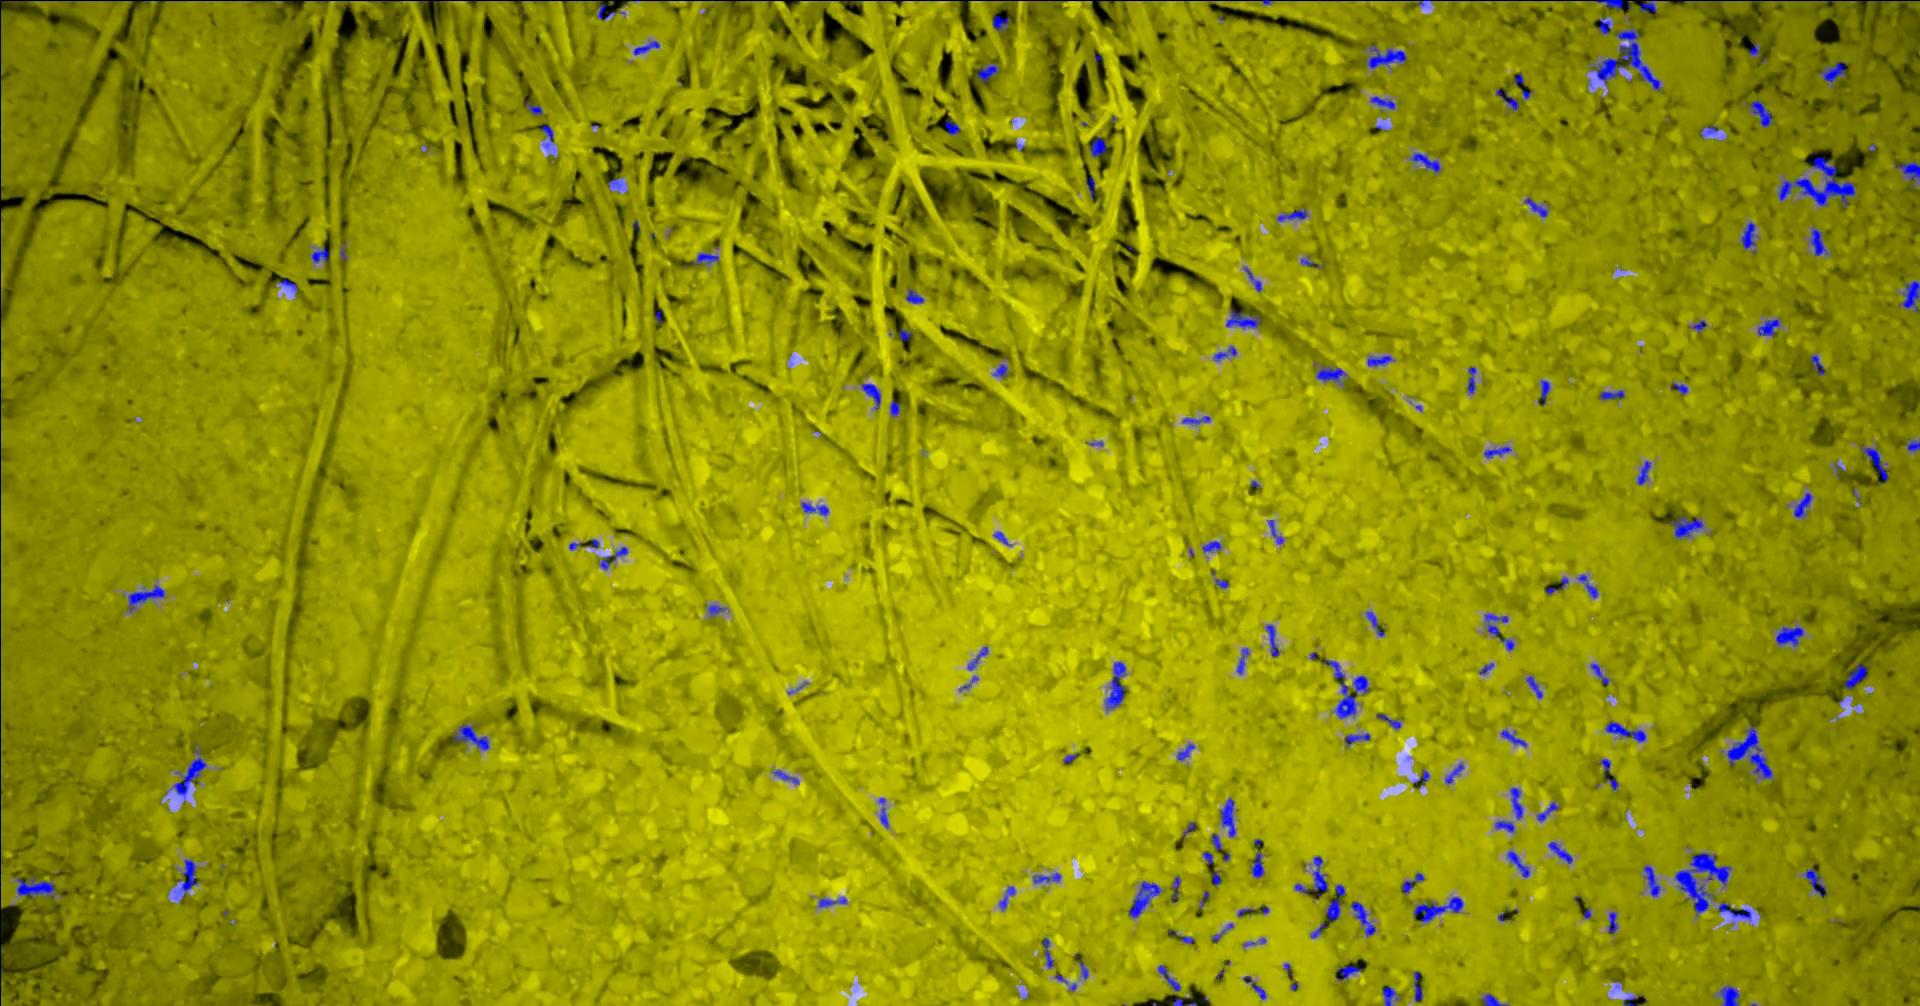ant: (1322, 658, 1368, 718), (1726, 724, 1771, 779), (171, 743, 206, 801), (1294, 855, 1327, 895), (1413, 895, 1463, 921), (1128, 882, 1161, 917), (1484, 614, 1514, 650), (1860, 445, 1888, 481), (1365, 44, 1406, 69), (1105, 661, 1125, 708), (127, 586, 164, 611), (452, 724, 489, 749), (175, 859, 197, 899), (1350, 901, 1375, 935), (1669, 514, 1703, 539), (17, 876, 55, 898), (1605, 721, 1644, 741), (1324, 884, 1343, 921), (1225, 307, 1260, 326), (1898, 279, 1919, 311), (1895, 161, 1919, 188), (599, 546, 627, 569), (1804, 868, 1826, 897), (1749, 99, 1771, 126), (1506, 850, 1529, 876), (1717, 902, 1751, 920), (1817, 61, 1845, 83), (1220, 796, 1236, 836), (1775, 626, 1803, 647), (1599, 758, 1617, 790), (596, 0, 625, 19), (1410, 152, 1439, 171), (1157, 965, 1180, 989), (1844, 663, 1865, 688), (1495, 88, 1517, 111), (1242, 976, 1265, 998), (1548, 841, 1572, 862), (1643, 865, 1660, 895), (1810, 227, 1827, 255), (1523, 197, 1547, 217), (1243, 265, 1262, 291), (861, 384, 880, 409), (1793, 492, 1812, 517), (1365, 611, 1384, 636), (1316, 365, 1345, 381), (1577, 574, 1597, 597), (1401, 873, 1423, 893), (1544, 575, 1568, 594), (1265, 624, 1279, 655), (1500, 729, 1526, 746), (1335, 964, 1361, 981), (1757, 318, 1780, 337), (968, 647, 987, 669), (1718, 984, 1738, 1005), (977, 64, 998, 83), (1537, 801, 1558, 821), (632, 39, 659, 55), (1740, 221, 1755, 248), (1510, 788, 1523, 819), (1525, 674, 1542, 699), (1375, 713, 1399, 729), (1277, 208, 1307, 221), (1444, 763, 1463, 782), (1090, 137, 1107, 158), (1590, 663, 1608, 683), (1369, 95, 1394, 109), (692, 251, 717, 265), (1236, 647, 1248, 674), (1343, 732, 1369, 746), (999, 887, 1015, 909), (801, 502, 828, 514), (1382, 986, 1399, 1005), (1636, 460, 1650, 484), (1041, 937, 1053, 967), (1537, 379, 1549, 404), (568, 539, 599, 549), (1251, 851, 1263, 876), (1213, 345, 1236, 359), (1483, 446, 1511, 457), (1269, 520, 1283, 542), (818, 895, 846, 907), (1412, 768, 1429, 788), (877, 796, 888, 827), (540, 124, 552, 149), (773, 770, 797, 782), (1481, 993, 1507, 1005), (279, 277, 297, 293), (1176, 743, 1194, 760), (1595, 0, 1633, 8), (1810, 354, 1823, 375), (1032, 873, 1060, 883), (524, 99, 542, 114), (311, 246, 329, 262), (905, 288, 923, 304), (1465, 366, 1476, 392), (1413, 970, 1422, 1001), (1699, 124, 1718, 138), (1368, 354, 1390, 366), (1170, 876, 1180, 902), (992, 15, 1008, 30), (1181, 415, 1209, 424), (1597, 17, 1610, 34), (1599, 390, 1624, 399), (1203, 540, 1220, 553), (1084, 177, 1095, 198), (707, 605, 726, 616), (1495, 821, 1514, 832), (943, 119, 959, 133), (1639, 0, 1656, 13), (1608, 911, 1617, 934), (992, 365, 1007, 377), (889, 399, 899, 417), (1905, 438, 1919, 451), (1211, 833, 1222, 850), (898, 328, 910, 340), (607, 177, 621, 188)
